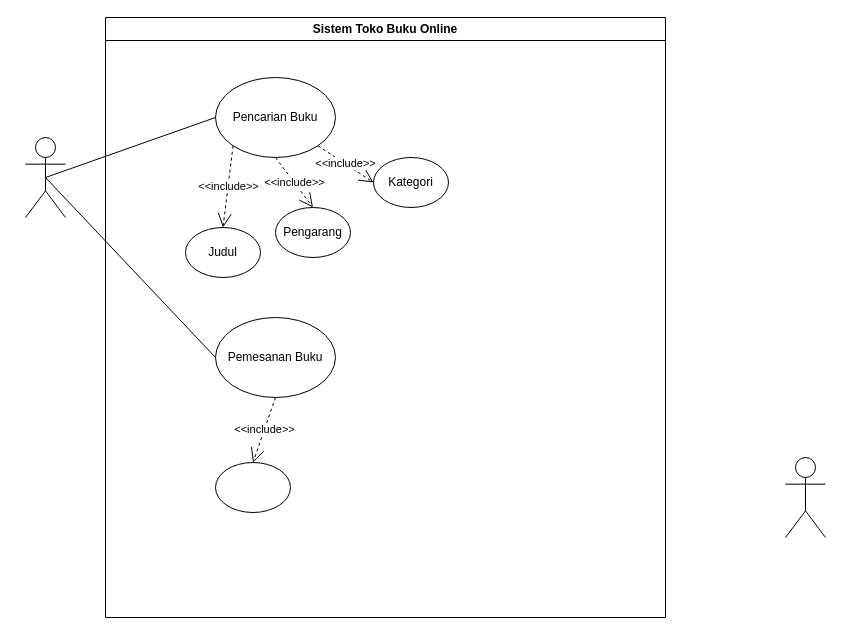
Some shapes in this 854 by 635 pixel diagram are drawn without their labels. The centre of each missing label's shape, as x and y in pixels:
"Admin Toko" belongs at (x=805, y=497).
"Konsumen" belongs at (x=45, y=177).
"Pembayaran" belongs at (x=252, y=487).
